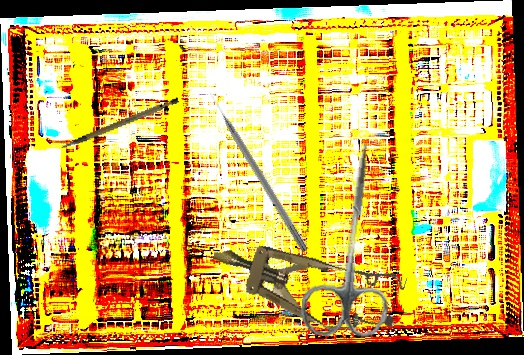Iris Scissors: (298, 136, 406, 342)
Pusher: (206, 89, 311, 253)
Scalpel Handle: (56, 96, 183, 149)
Speculum: (202, 218, 409, 348)
